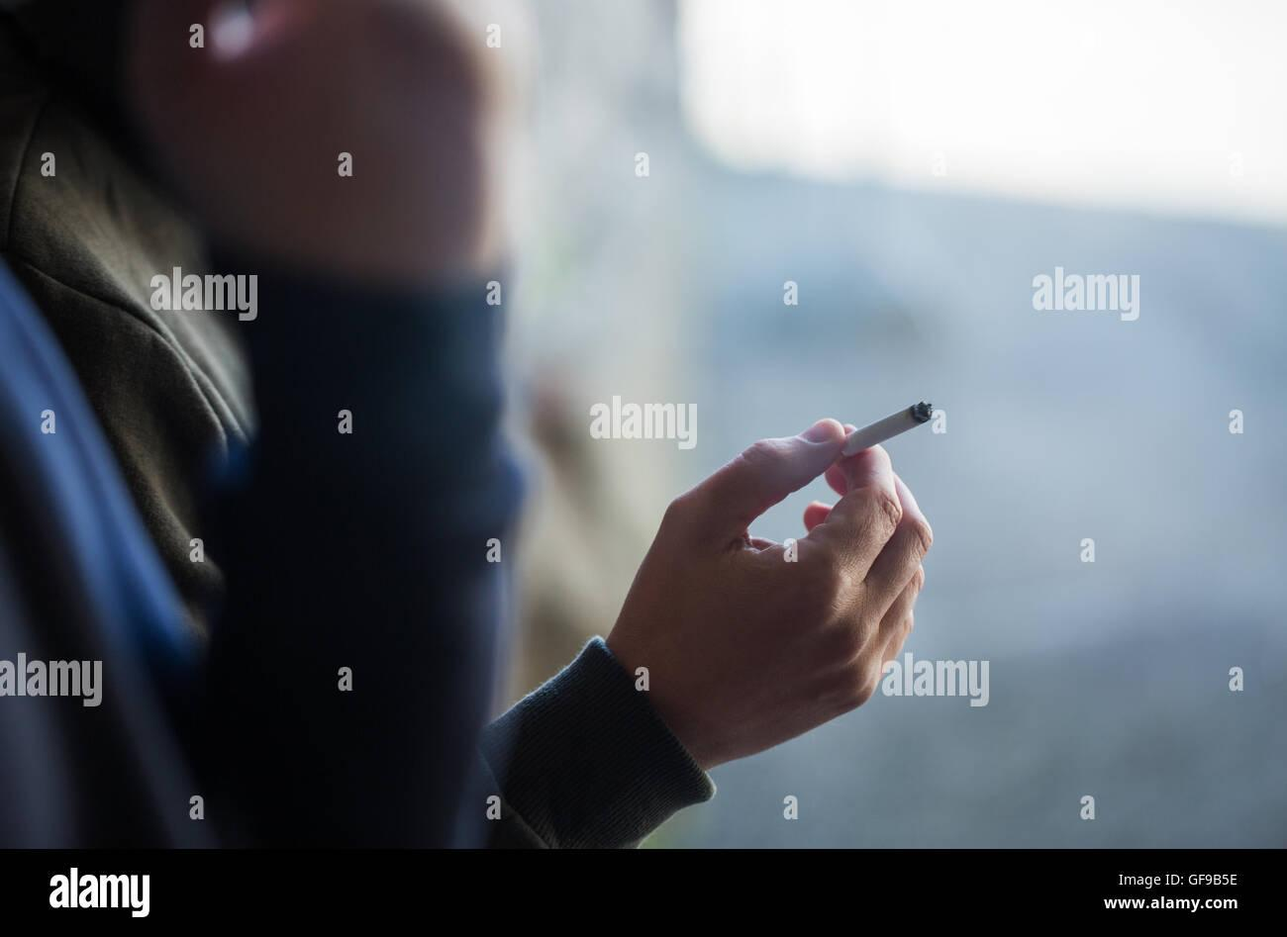cigarette: (841, 402, 931, 456)
